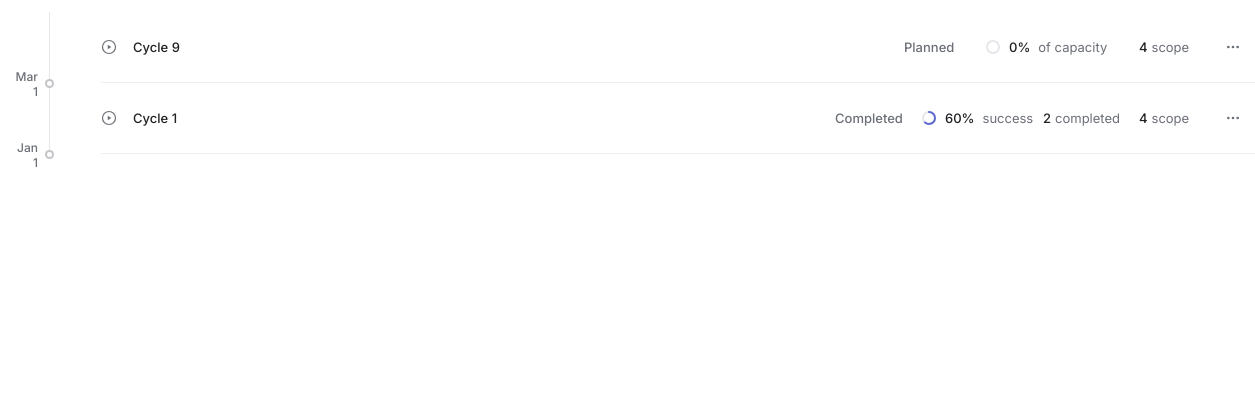
Scenario: ciclos planned e completed acessíveis (pl#4) › o ciclo planned aparece com o rótulo e abre os detalhes na lista
Expected: the text "Planned" is shown, [904,39,954,55]
Click the button named "Open Cycle 9": x=650, y=47 [101,12,1199,82]
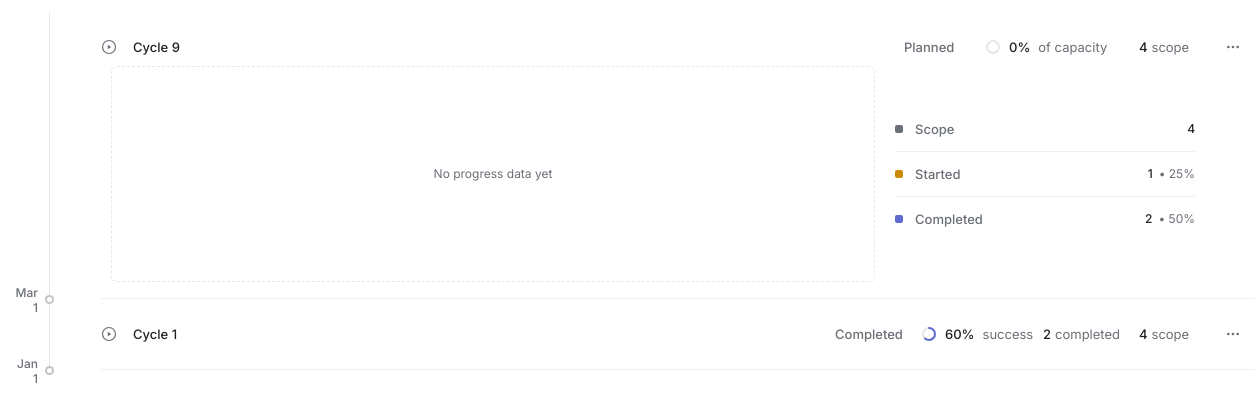
Now the button named "Open Cycle 9" is expanded, box [101,12,1199,82]
